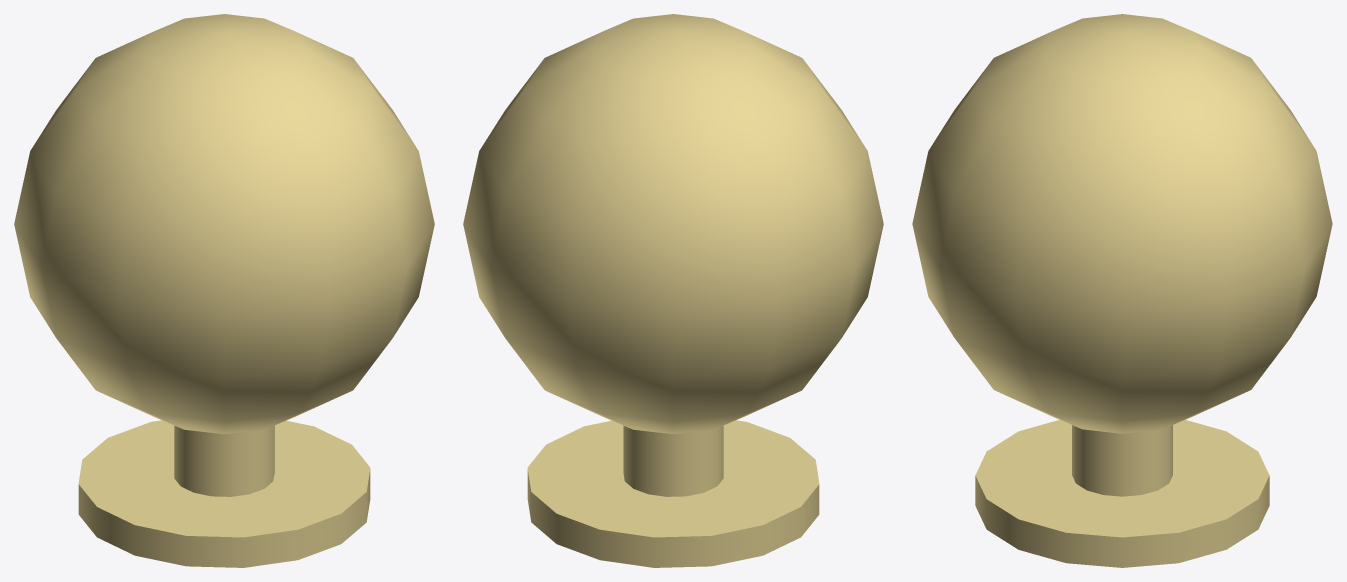
The model's file is round-knob.gltf.
3 renders of one model, left to right at view 1: azimuth 30°, elevation 25°; view 2: azimuth 150°, elevation 25°; view 3: azimuth 270°, elevation 25°, orthographic.
Parts seen in each view (by area): view 1: Knob, Base, Post; view 2: Knob, Base, Post; view 3: Knob, Base, Post.
Part boxes in pixels (bbox=[...]): Knob: bbox=[14, 14, 434, 434]; Base: bbox=[78, 420, 370, 567]; Post: bbox=[174, 425, 274, 496]; Knob: bbox=[463, 14, 883, 434]; Base: bbox=[527, 420, 819, 567]; Post: bbox=[623, 425, 723, 496]; Knob: bbox=[912, 14, 1332, 433]; Base: bbox=[975, 420, 1269, 567]; Post: bbox=[1072, 425, 1172, 496].
Size of the model in its own units: 1 by 1.24 by 1.
